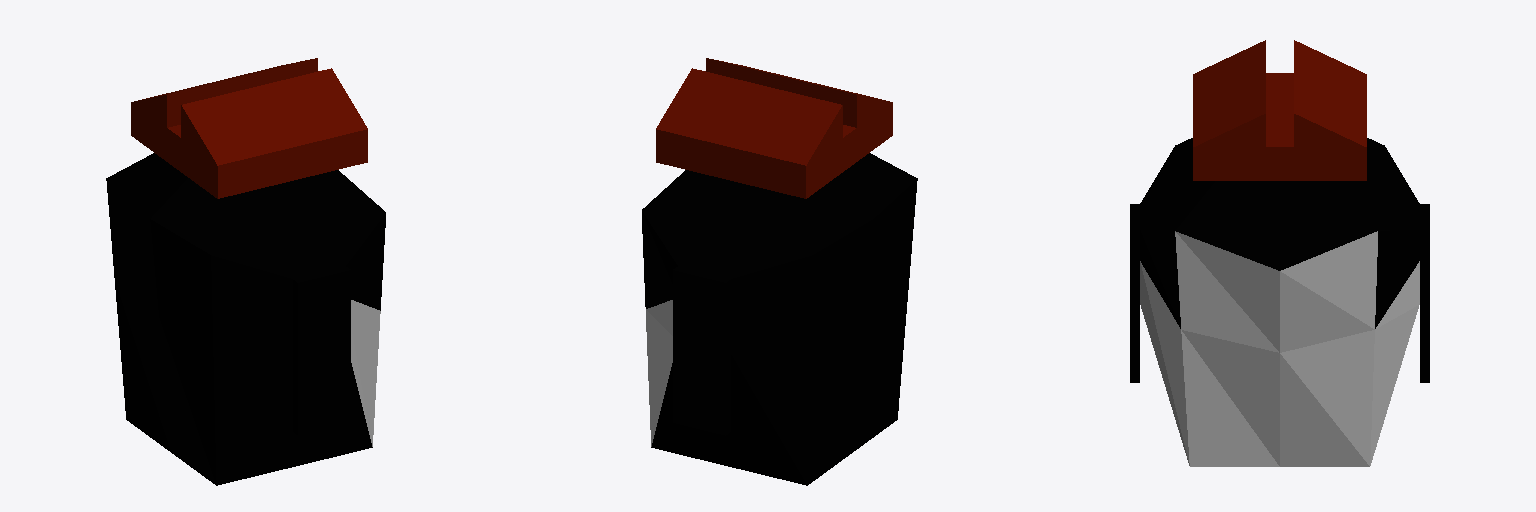
Rendered from plup.obj.
The picture shows the model from 3 angles: view 1: azimuth 30°, elevation 25°; view 2: azimuth 150°, elevation 25°; view 3: azimuth 270°, elevation 25°; orthographic projection.
Visible parts, largest first — view 1: Cube; view 2: Cube; view 3: Cube.
Boxes of the visible parts, x1=… form: Cube: x1=106, y1=58, x2=385, y2=485; Cube: x1=642, y1=58, x2=917, y2=485; Cube: x1=1130, y1=40, x2=1429, y2=466.
Bounding box in the file's own units: 2.33 × 3.71 × 2.87.